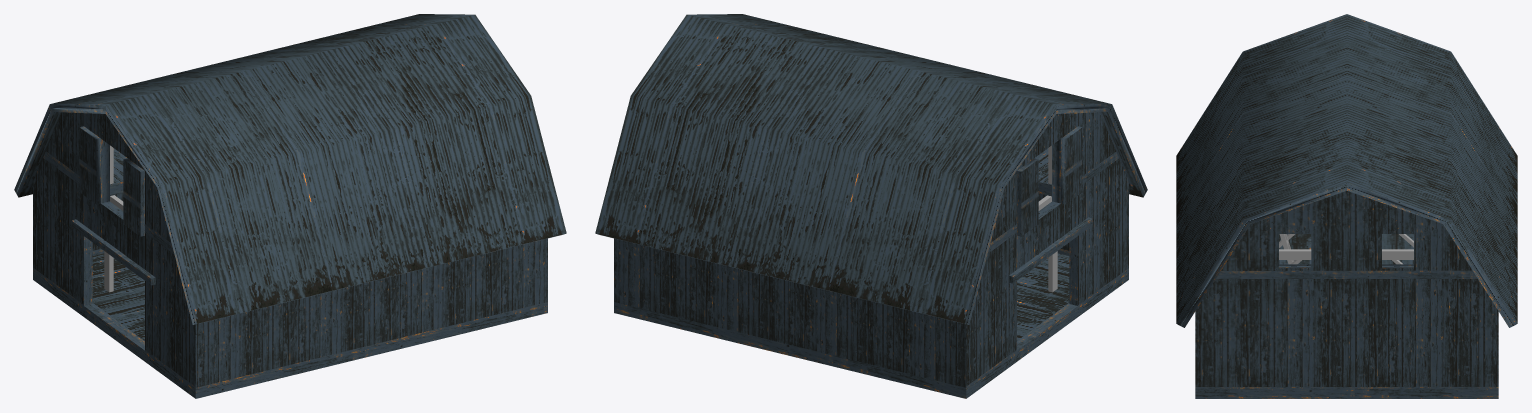
File: barnMesh.fbx
The picture shows the model from 3 angles, left to right: view 1: azimuth 30°, elevation 25°; view 2: azimuth 150°, elevation 25°; view 3: azimuth 270°, elevation 25°; orthographic projection. The views are drawn at different scales.
Visible parts, largest first — view 1: beamMid1; view 2: beamMid1; view 3: beamMid1.
Boxes of the visible parts, bbox=[...] form: beamMid1: bbox=[14, 14, 566, 398]; beamMid1: bbox=[595, 14, 1147, 398]; beamMid1: bbox=[1176, 14, 1517, 398].
Size of the model in its own units: 21 by 12.85 by 18.
